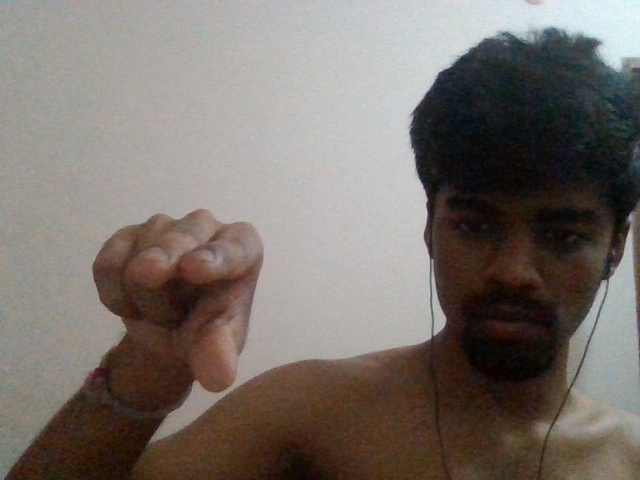No: (85, 206, 266, 400)
